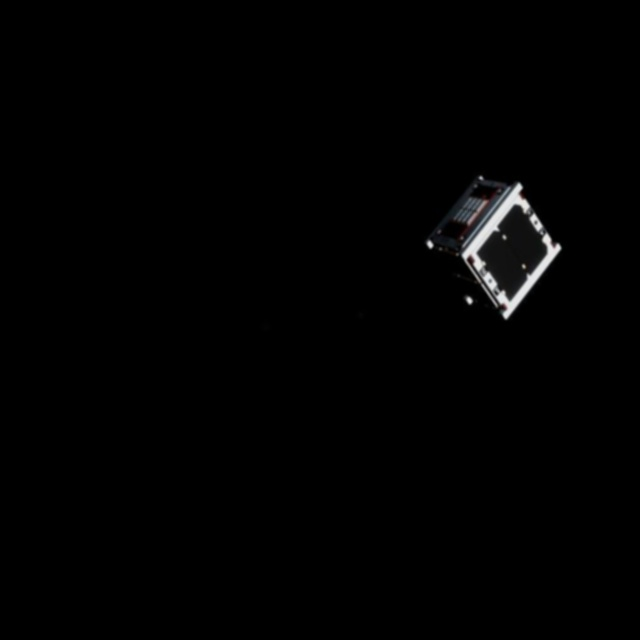medium_debris: (409, 161, 565, 330)
